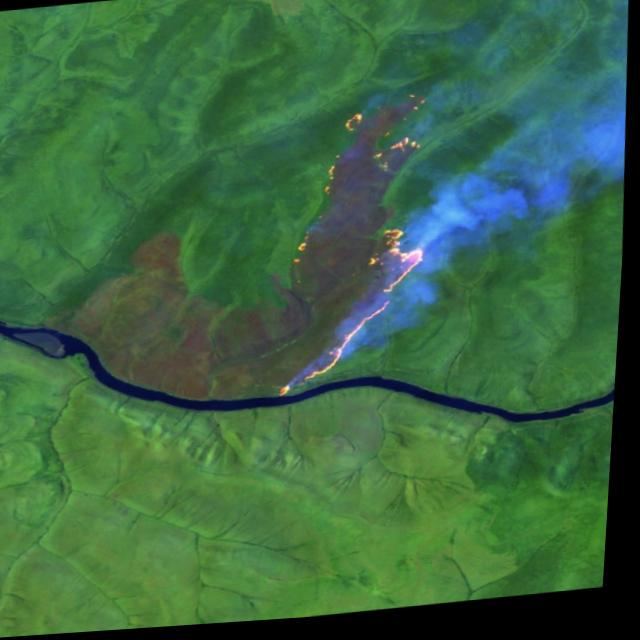fire: (261, 88, 455, 411)
